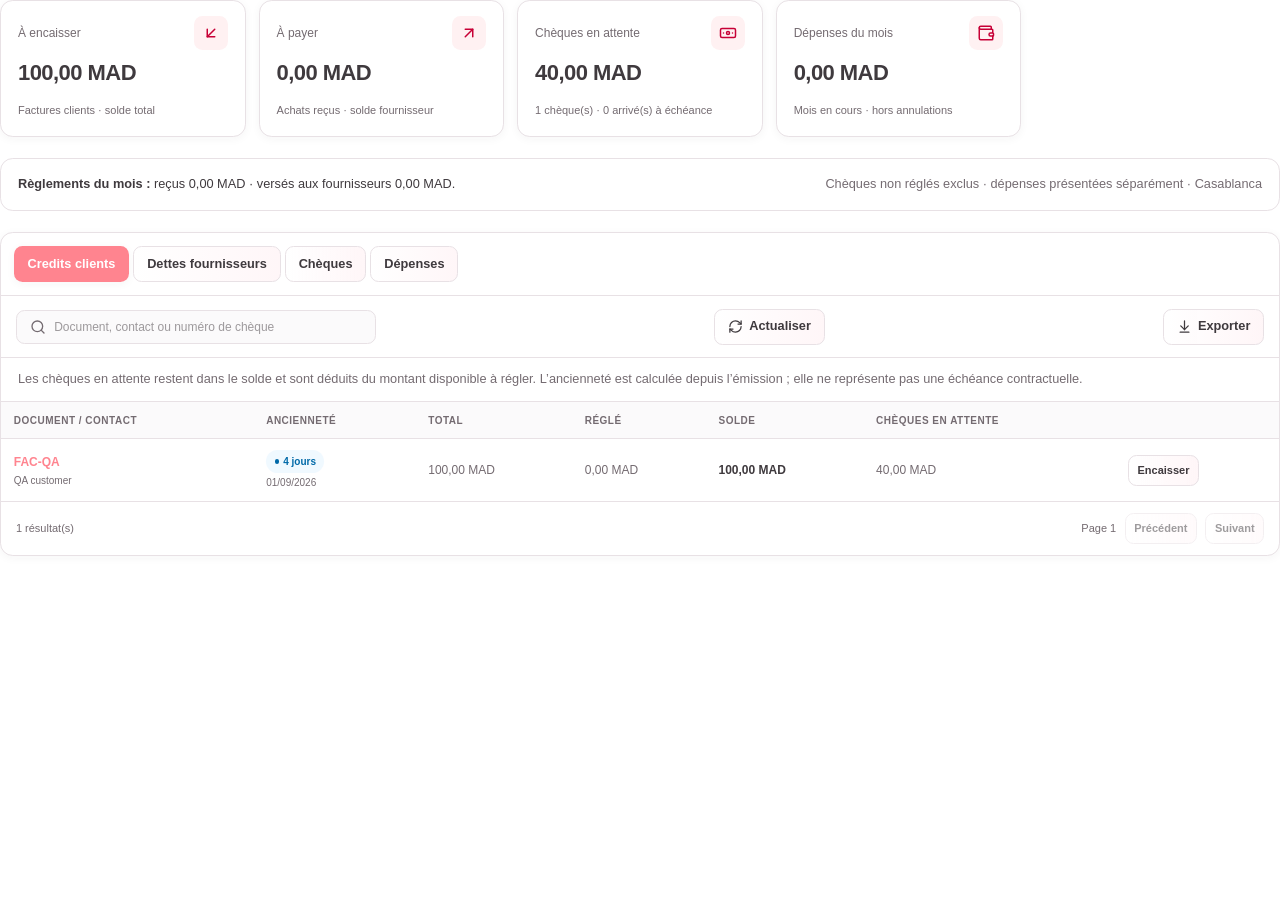
Test: finance workflows › prefills the payable amount excluding pending checks and sends the settlement
Click the button "Encaisser": (1164, 470) [1128,454,1199,486]
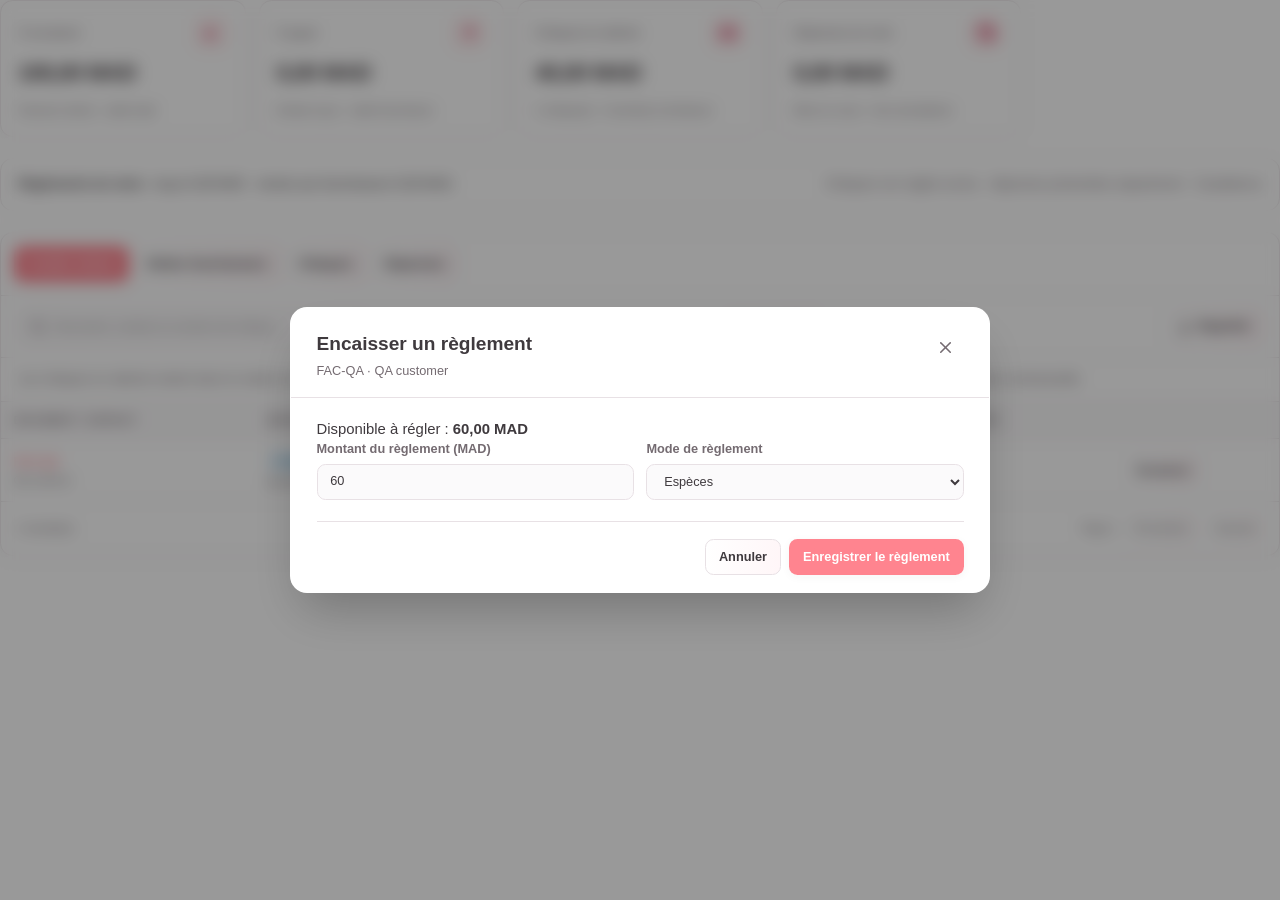
Now the number field labelled "Montant du règlement (MAD)" holds "60"
Replace the text in the number field labelled "Montant du règlement (MAD)" with "20": (475, 482) [316,464,634,500]
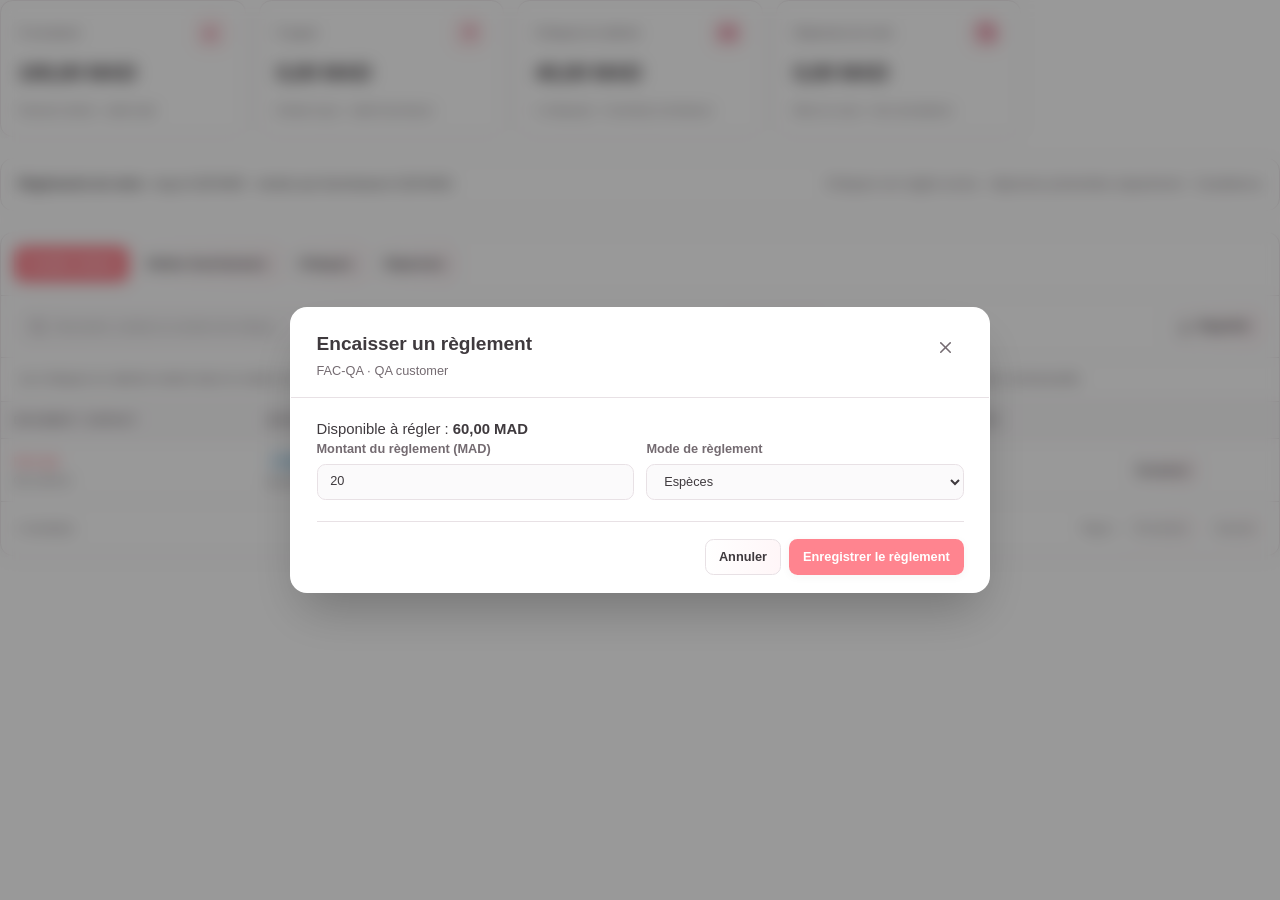
Click the button "Enregistrer le règlement": (876, 557) [789,539,964,575]
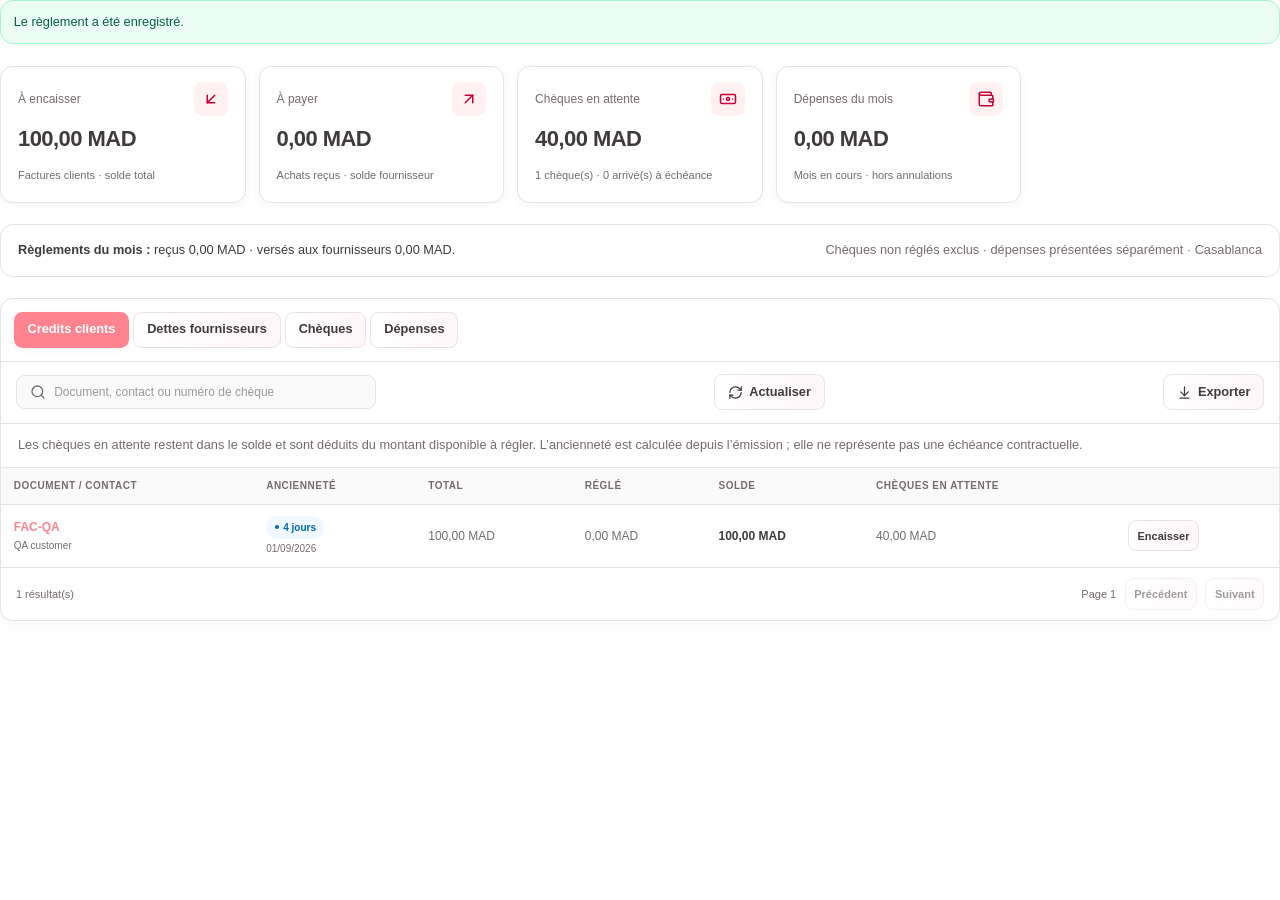
Now the message "Le règlement a été enregistré." is shown, box [0,0,1279,44]
